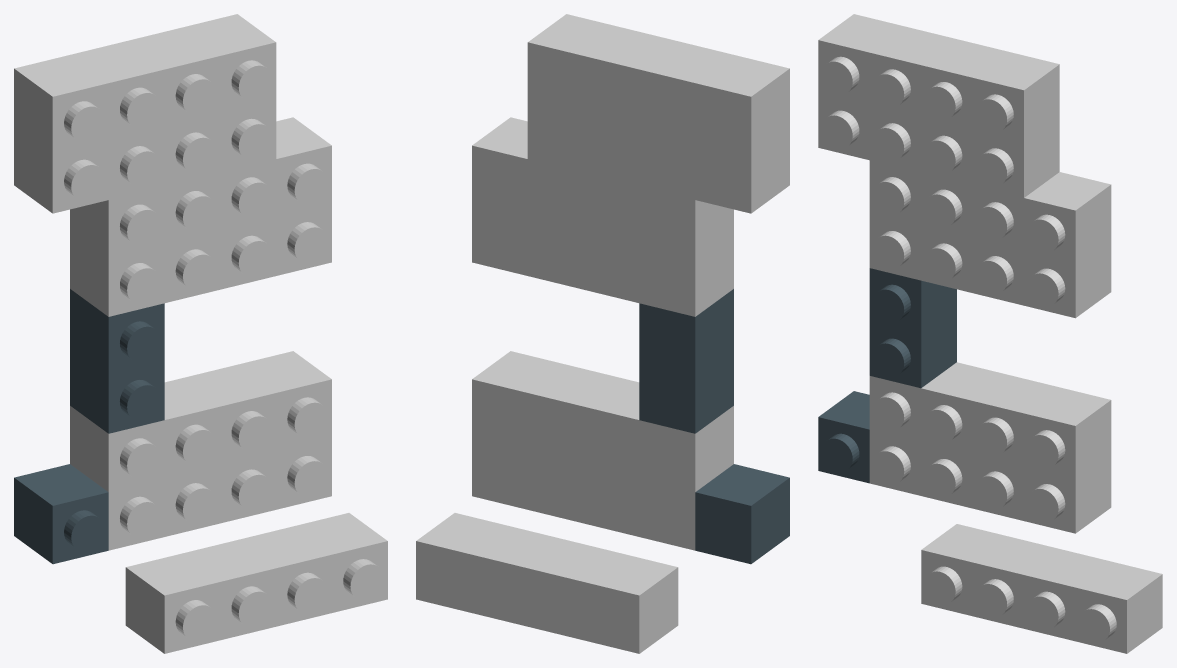
The model's file is current.glb.
3 views of the same model, side by side, from view 1: azimuth 30°, elevation 25°; view 2: azimuth 150°, elevation 25°; view 3: azimuth 330°, elevation 25° (orthographic). The views are drawn at different scales.
Parts seen in each view (by area): view 1: world; view 2: world; view 3: world.
Boxes of the visible parts, x1=… form: world: x1=14, y1=14, x2=387, y2=653; world: x1=416, y1=14, x2=789, y2=653; world: x1=818, y1=14, x2=1162, y2=653.
Size of the model in its own units: 48 by 80 by 11.4.
